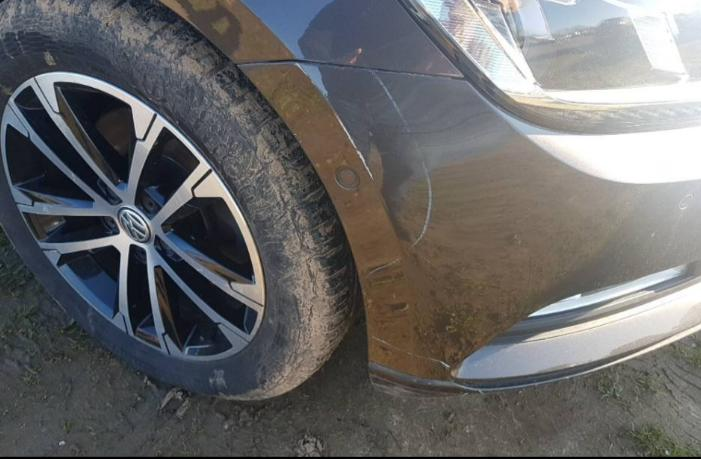Fender: (35, 0, 465, 78)
Front-bumper: (238, 62, 701, 397)
Front-wheel: (0, 0, 363, 399)
Headlight: (403, 0, 701, 132)
